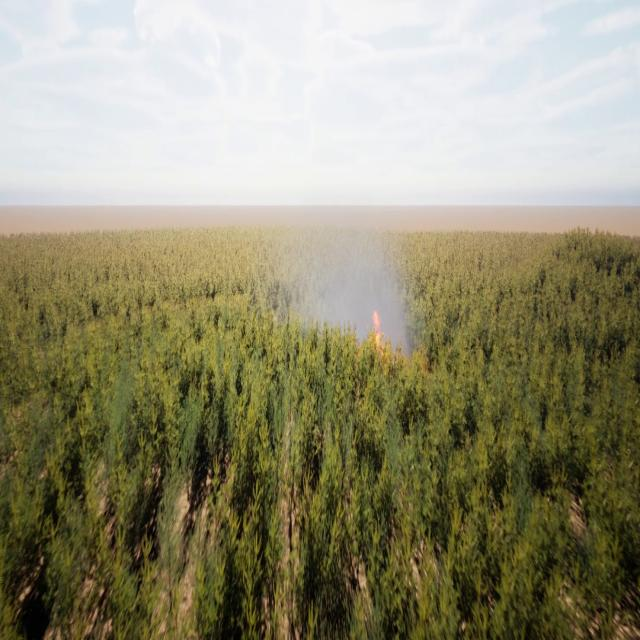fire: (367, 306, 385, 355)
smoke: (255, 189, 412, 365)
